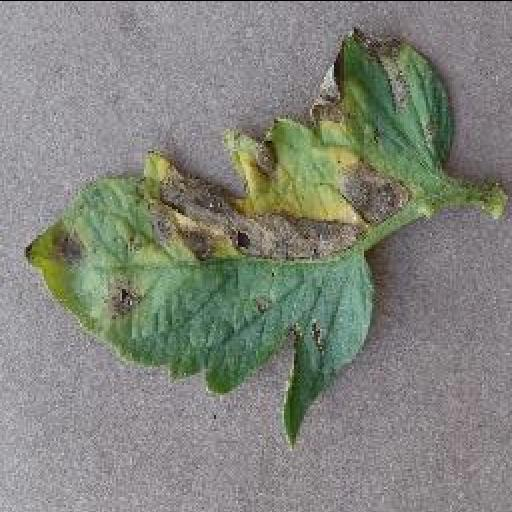disease_tomato: (22, 26, 456, 436)
